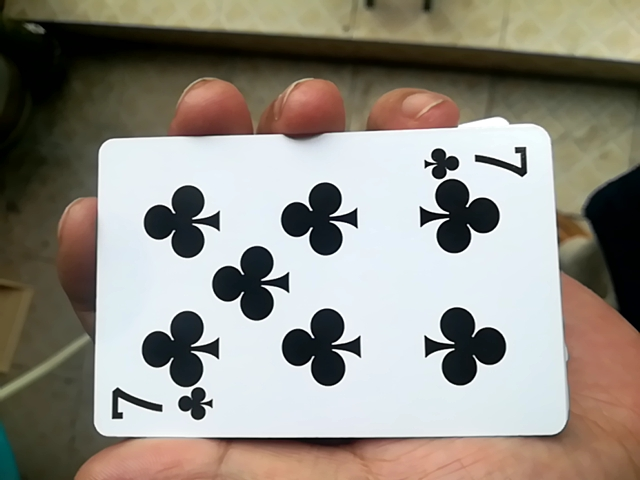mh 7: (75, 128, 566, 448)
